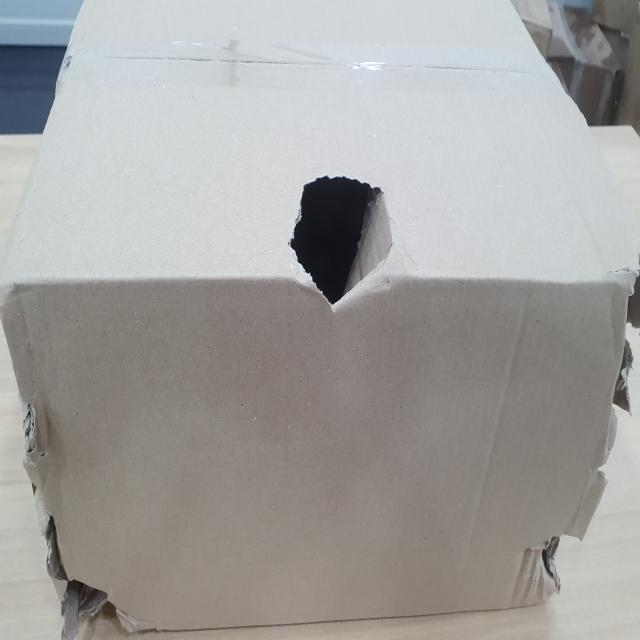hole: (283, 161, 397, 315), (42, 520, 128, 634), (533, 519, 583, 593), (603, 302, 633, 419)
